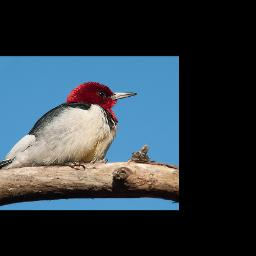Woodpecker: (0, 82, 137, 173)
